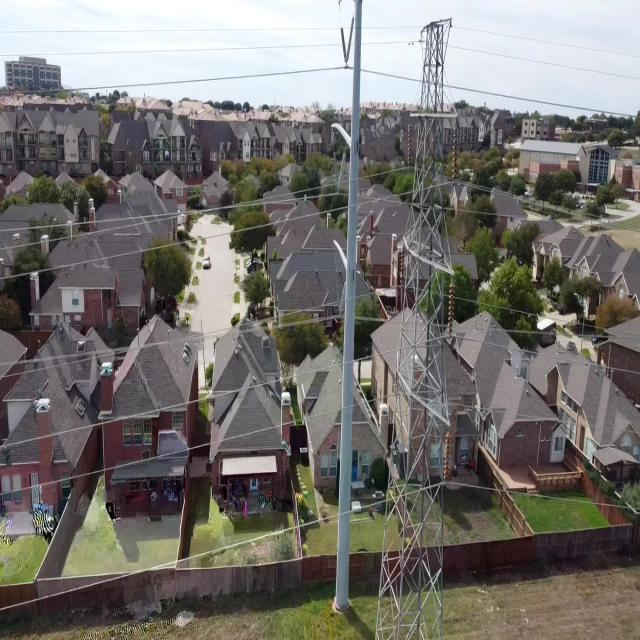杆塔: (370, 10, 454, 639)
正常电缆: (0, 496, 385, 615), (0, 391, 389, 499), (0, 358, 344, 453), (0, 201, 349, 285), (454, 478, 640, 515)
正常绝缘子: (344, 16, 356, 67), (446, 280, 456, 337), (442, 431, 452, 484), (452, 125, 461, 180), (337, 151, 347, 192), (338, 280, 349, 315), (340, 25, 349, 65), (335, 270, 342, 315), (332, 150, 340, 188), (399, 248, 406, 288), (407, 124, 413, 168), (394, 356, 398, 393)
